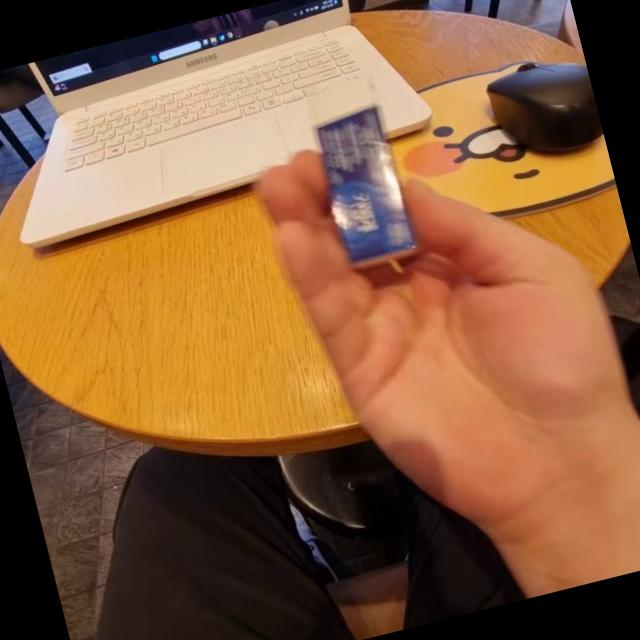eraser: (288, 76, 437, 282)
grab_eraser: (228, 55, 640, 589)
mouse: (464, 31, 608, 182)
